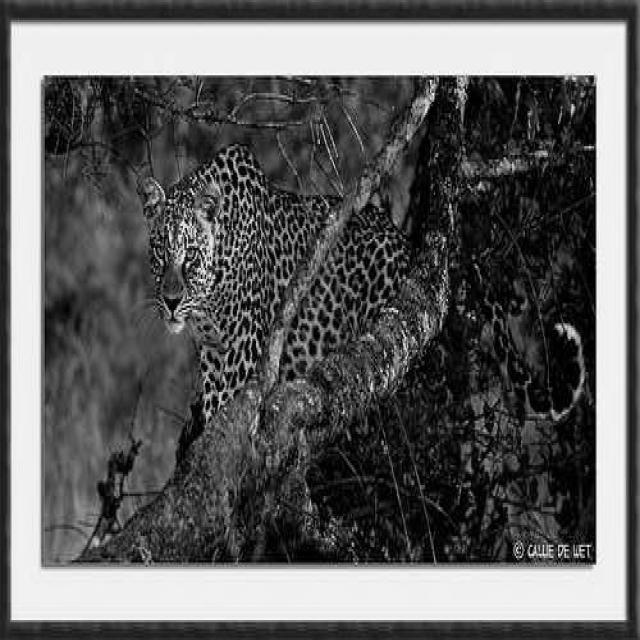Leopard: (134, 80, 439, 463)
